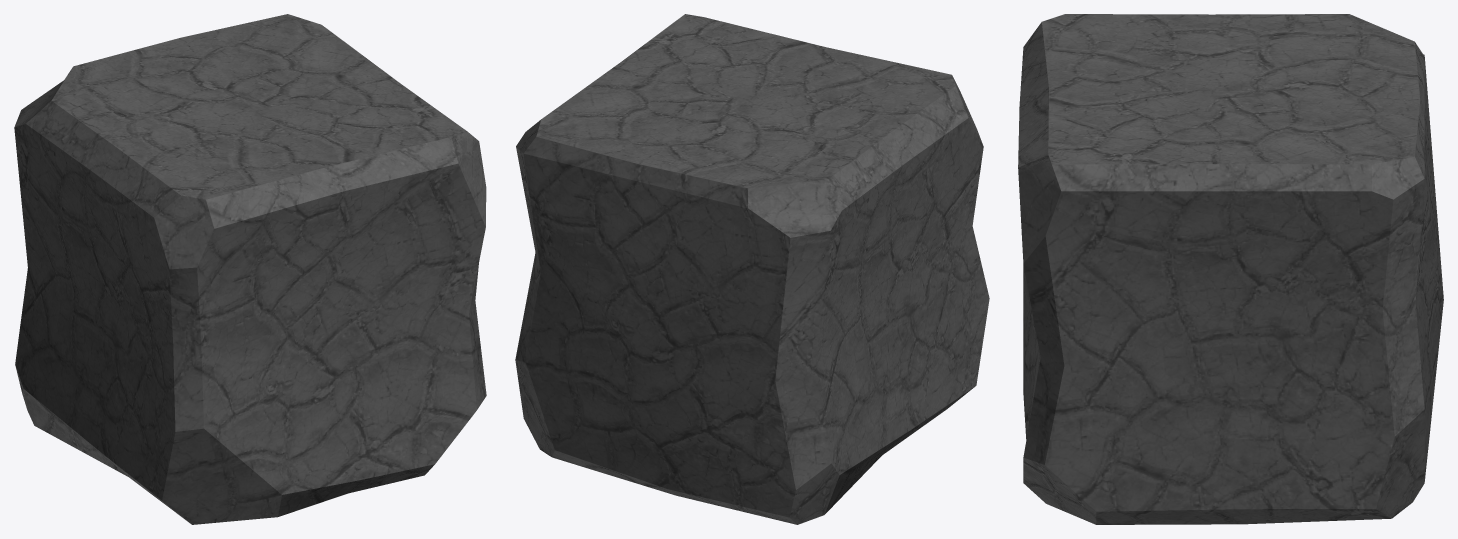
File: m_island_small_2.fbx
3 renders of one model, left to right at view 1: azimuth 30°, elevation 25°; view 2: azimuth 150°, elevation 25°; view 3: azimuth 270°, elevation 25°, orthographic. The views are drawn at different scales.
Visible parts, largest first — view 1: Cube1; view 2: Cube1; view 3: Cube1.
Part boxes in pixels (x1,y1,x2,y2): Cube1: (14, 14, 486, 524); Cube1: (515, 14, 989, 524); Cube1: (1018, 14, 1443, 524).
Bounding box in the file's own units: 11.89 × 11.89 × 12.62.
